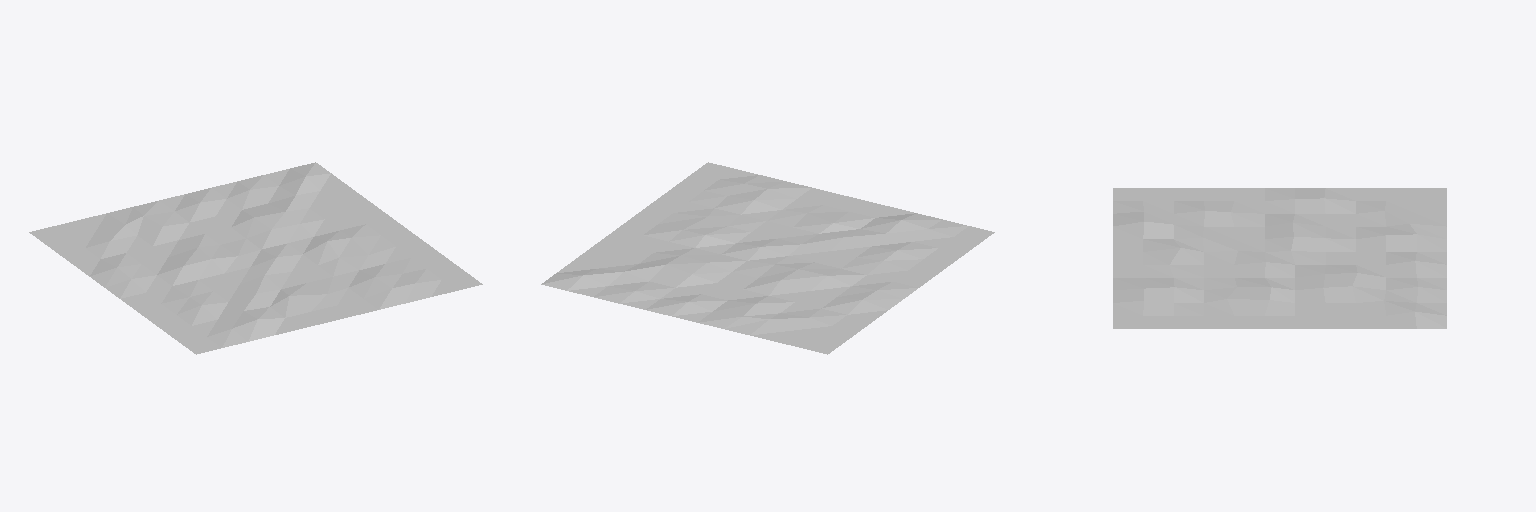
File: ground.obj
3 views of the same model, side by side, from view 1: azimuth 30°, elevation 25°; view 2: azimuth 150°, elevation 25°; view 3: azimuth 270°, elevation 25° (orthographic).
Visible parts, largest first — view 1: Plane; view 2: Plane; view 3: Plane.
Part boxes in pixels (bbox=[...]): Plane: bbox=[29, 162, 482, 354]; Plane: bbox=[541, 162, 994, 354]; Plane: bbox=[1113, 188, 1446, 328].
Size of the model in its own units: 9.92 by 0.1596 by 9.99.